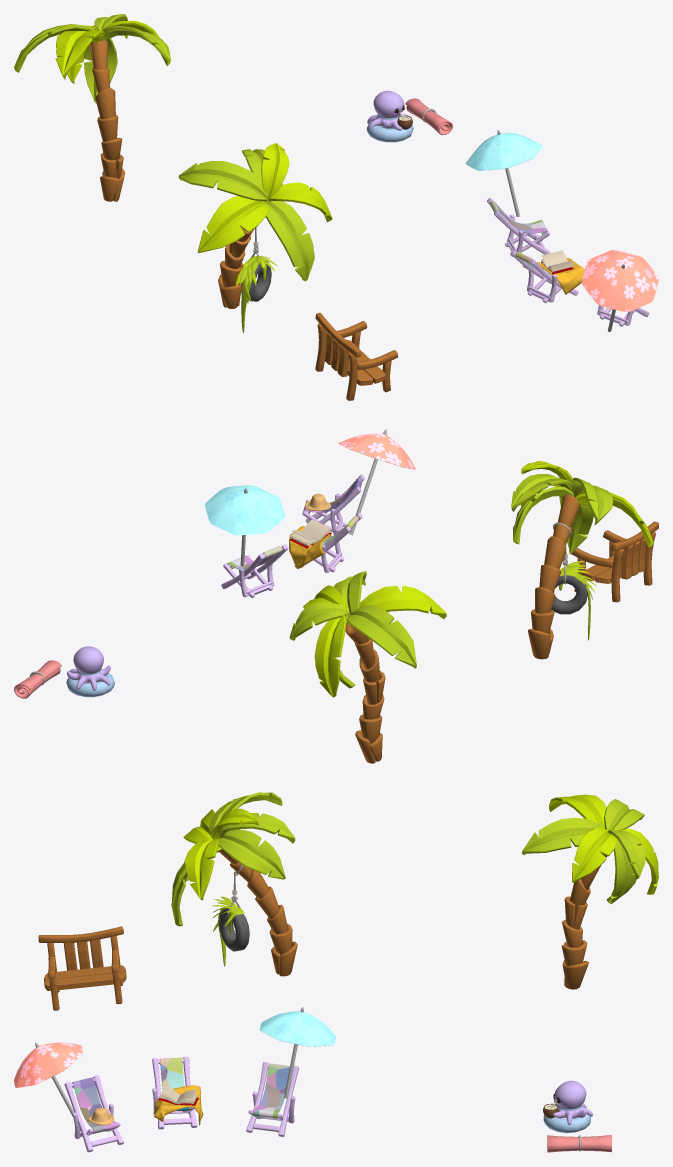
The model's file is props_model.glb.
3 views of the same model, one above another, from view 1: azimuth 30°, elevation 25°; view 2: azimuth 150°, elevation 25°; view 3: azimuth 270°, elevation 25° (orthographic). The views are drawn at different scales.
Visible parts, largest first — view 1: Cylinder.1561_Cylinder.3153_umbrella_2.001_umbrella_2.001_0, Plane.2176_Plane.3099_Material.027_Material.027_0, Plane.2178_Plane.3101_Material.025_Material.025_0, Plane.2174_Plane.3097_Material.025_Material.025_0, Cylinder.1084_Cylinder.1213_umbrella_2_umbrella_2_0, Plane.2183_Plane.3106_Material.027_Material.027_0, Plane.2179_Plane.3102_Material.027_Material.027_0, Plane.2181_Plane.3104_Material.027_Material.027_0, Cylinder.009_Cylinder.009_Material.005_Material.005_0, Plane.2182_Plane.3105_Material.025_Material.025_0, Plane.2185_Plane.3108_Material.025_Material.025_0, Plane.2184_Plane.3107_Material.025_Material.025_0 (+4 smaller); view 2: Cylinder.1084_Cylinder.1213_umbrella_2_umbrella_2_0, Plane.2185_Plane.3108_Material.025_Material.025_0, Plane.2187_Plane.3110_Material.027_Material.027_0, Plane.2183_Plane.3106_Material.027_Material.027_0, Cylinder.1561_Cylinder.3153_umbrella_2.001_umbrella_2.001_0, Cylinder.009_Cylinder.009_Material.005_Material.005_0, Plane.2186_Plane.3109_Material.025_Material.025_0, Plane.2178_Plane.3101_Material.025_Material.025_0, Plane.2180_Plane.3103_Material.025_Material.025_0, Torus.006_Torus.002_Material.1098_Material.1098_0, Plane.2174_Plane.3097_Material.025_Material.025_0, Plane.2182_Plane.3105_Material.025_Material.025_0 (+10 smaller); view 3: Cylinder.1561_Cylinder.3153_umbrella_2.001_umbrella_2.001_0, Plane.2177_Plane.3100_Material.025_Material.025_0, Cylinder.1084_Cylinder.1213_umbrella_2_umbrella_2_0, Plane.2182_Plane.3105_Material.025_Material.025_0, Plane.2188_Plane.3111_Material.027_Material.027_0, Plane.2181_Plane.3104_Material.027_Material.027_0, Plane.2157_Plane.3080_Material.1086_Material.1086_0, Cylinder.009_Cylinder.009_Material.005_Material.005_0, Plane.2183_Plane.3106_Material.027_Material.027_0, BezierCurve.019_BezierCurve.000_base.013_base.013_0, Plane.2166_Plane.3089_Material.1086_Material.1086_0, Torus.006_Torus.002_Material.1098_Material.1098_0 (+16 smaller).
Part boxes in pixels (x1,y1,x2,y2): Cylinder.1561_Cylinder.3153_umbrella_2.001_umbrella_2.001_0: [581, 249, 658, 312]; Plane.2176_Plane.3099_Material.027_Material.027_0: [197, 196, 269, 252]; Plane.2178_Plane.3101_Material.025_Material.025_0: [178, 161, 268, 201]; Plane.2174_Plane.3097_Material.025_Material.025_0: [262, 199, 314, 281]; Cylinder.1084_Cylinder.1213_umbrella_2_umbrella_2_0: [465, 133, 542, 170]; Plane.2183_Plane.3106_Material.027_Material.027_0: [55, 30, 104, 79]; Plane.2179_Plane.3102_Material.027_Material.027_0: [261, 143, 289, 197]; Plane.2181_Plane.3104_Material.027_Material.027_0: [268, 182, 332, 222]; Cylinder.009_Cylinder.009_Material.005_Material.005_0: [367, 90, 408, 130]; Plane.2182_Plane.3105_Material.025_Material.025_0: [101, 26, 171, 65]; Plane.2185_Plane.3108_Material.025_Material.025_0: [14, 24, 95, 72]; Plane.2184_Plane.3107_Material.025_Material.025_0: [84, 30, 117, 103]; Cylinder.1084_Cylinder.1213_umbrella_2_umbrella_2_0: [205, 485, 284, 535]; Plane.2185_Plane.3108_Material.025_Material.025_0: [346, 605, 416, 668]; Plane.2187_Plane.3110_Material.027_Material.027_0: [314, 615, 346, 697]; Plane.2183_Plane.3106_Material.027_Material.027_0: [359, 586, 446, 618]; Cylinder.1561_Cylinder.3153_umbrella_2.001_umbrella_2.001_0: [338, 433, 415, 469]; Cylinder.009_Cylinder.009_Material.005_Material.005_0: [67, 646, 110, 690]; Plane.2186_Plane.3109_Material.025_Material.025_0: [289, 602, 349, 640]; Plane.2178_Plane.3101_Material.025_Material.025_0: [571, 477, 613, 524]; Plane.2180_Plane.3103_Material.025_Material.025_0: [511, 474, 572, 511]; Torus.006_Torus.002_Material.1098_Material.1098_0: [551, 575, 587, 614]; Plane.2174_Plane.3097_Material.025_Material.025_0: [559, 496, 593, 554]; Plane.2182_Plane.3105_Material.025_Material.025_0: [333, 571, 366, 625]; Cylinder.1561_Cylinder.3153_umbrella_2.001_umbrella_2.001_0: [14, 1042, 82, 1087]; Plane.2177_Plane.3100_Material.025_Material.025_0: [218, 829, 285, 879]; Cylinder.1084_Cylinder.1213_umbrella_2_umbrella_2_0: [260, 1011, 335, 1046]; Plane.2182_Plane.3105_Material.025_Material.025_0: [522, 818, 601, 854]; Plane.2188_Plane.3111_Material.027_Material.027_0: [572, 827, 617, 882]; Plane.2181_Plane.3104_Material.027_Material.027_0: [184, 838, 219, 900]; Plane.2157_Plane.3080_Material.1086_Material.1086_0: [252, 1063, 289, 1118]; Cylinder.009_Cylinder.009_Material.005_Material.005_0: [553, 1080, 592, 1124]; Plane.2183_Plane.3106_Material.027_Material.027_0: [549, 794, 606, 828]; BezierCurve.019_BezierCurve.000_base.013_base.013_0: [547, 1135, 611, 1152]; Plane.2166_Plane.3089_Material.1086_Material.1086_0: [72, 1077, 117, 1133]; Torus.006_Torus.002_Material.1098_Material.1098_0: [219, 908, 249, 951].
Size of the model in its own units: 9.24 by 4.02 by 11.96.
Materials: 25 (3 with a texture image).
